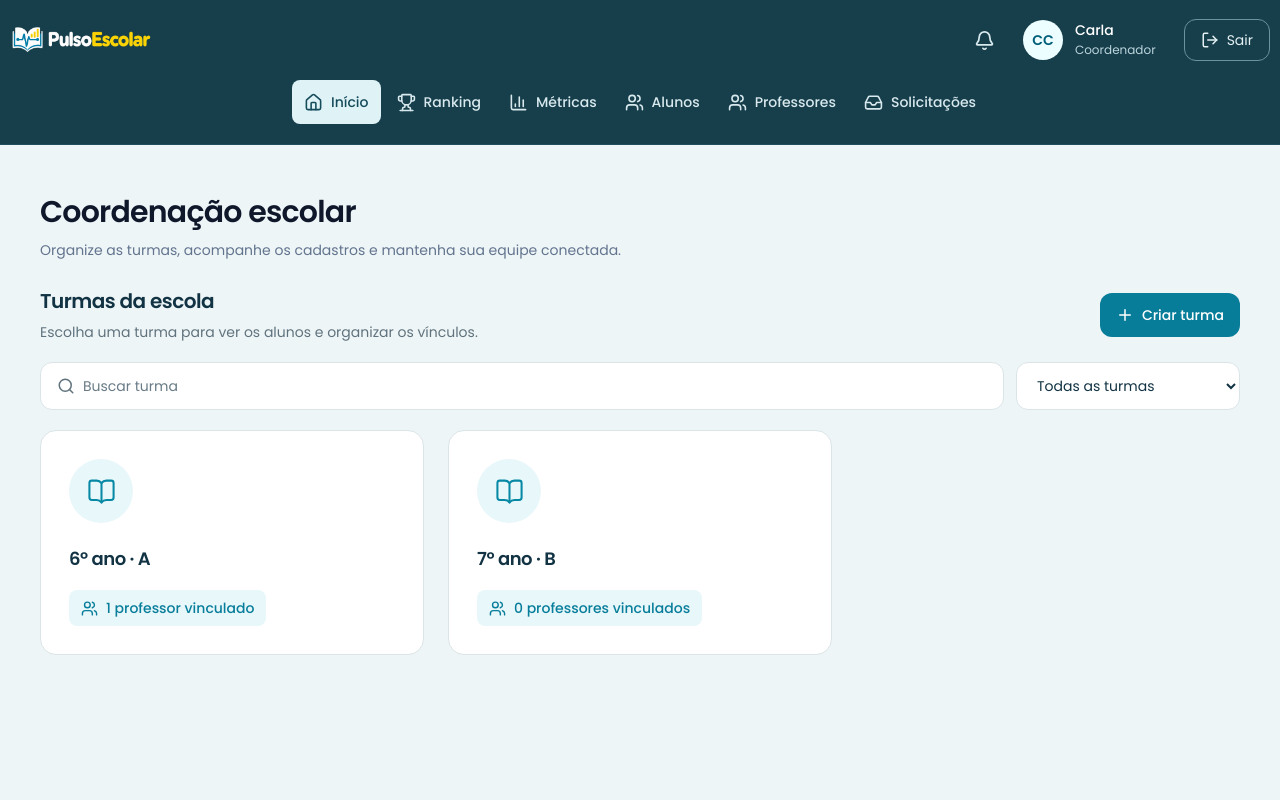
Test case: início do coordenador preserva acessos e filtra turmas da sua escola
Expected: the link "6º ano · A 1 professor vinculado" is shown, left=40, top=430, right=424, bottom=655
Expected: the heading "6º ano · A" is shown, left=69, top=546, right=150, bottom=571
Select "Sem professor vinculado" in the dropdown: (1128, 386) left=1016, top=362, right=1240, bottom=410
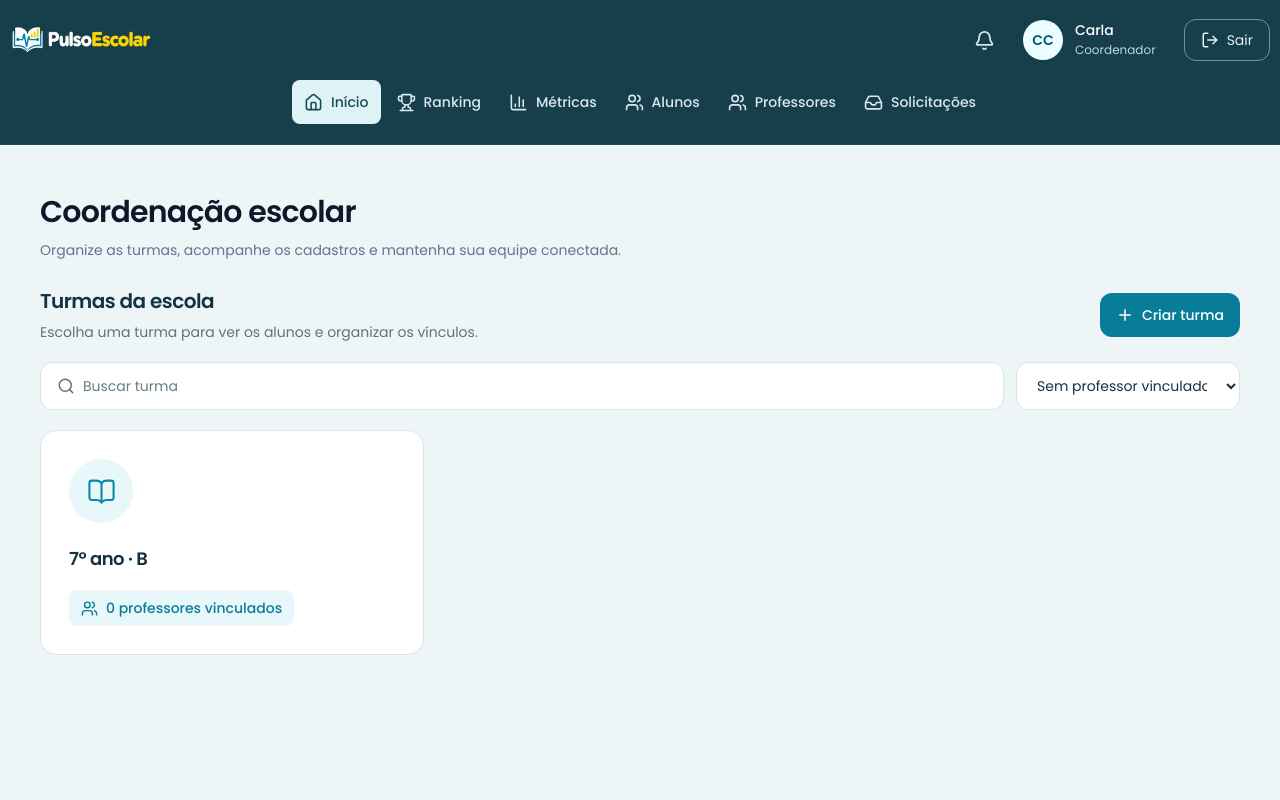
Expected: the link "7º ano · B 0 professores vinculados" is shown, left=40, top=430, right=424, bottom=655
Now the link "6º ano" is gone
In the search field: (535, 386) left=83, top=376, right=987, bottom=396, type "ausente"
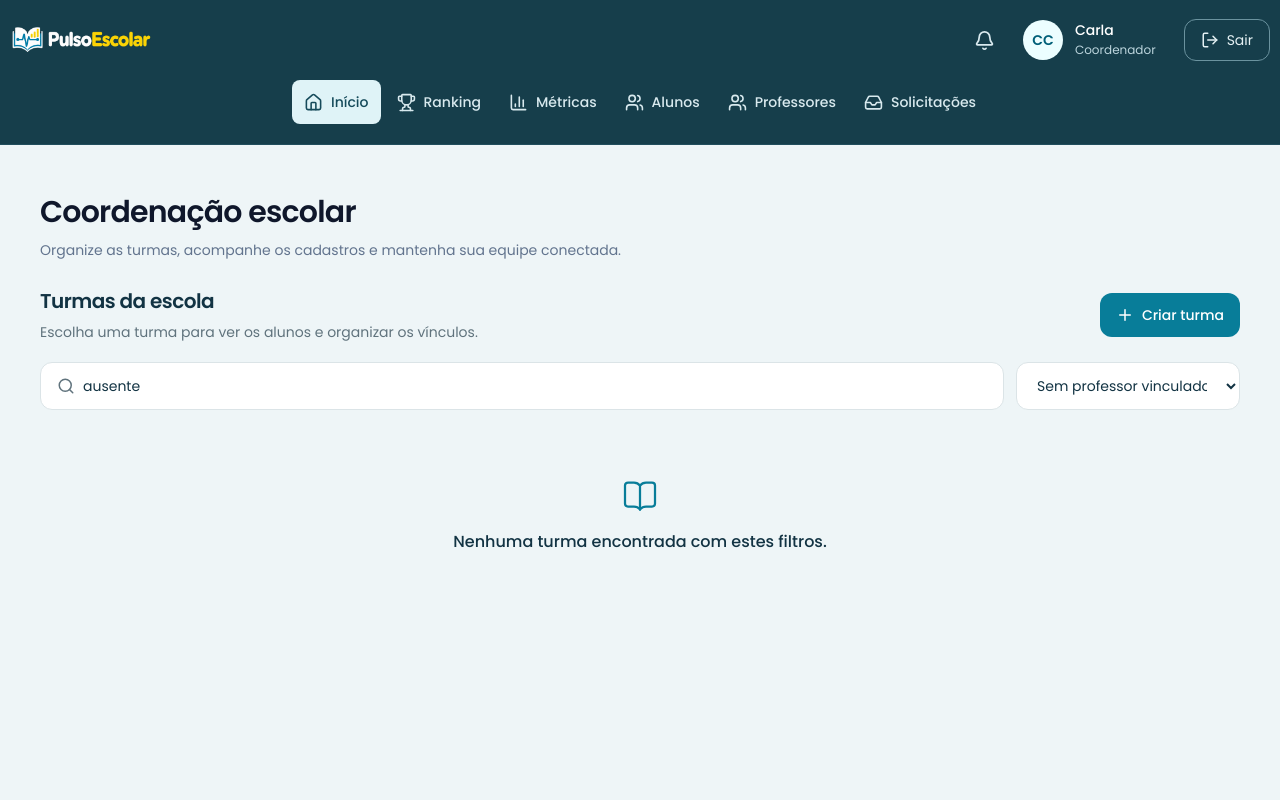
Now the text "Nenhuma turma encontrada com estes filtros." is shown, box left=453, top=530, right=827, bottom=554
